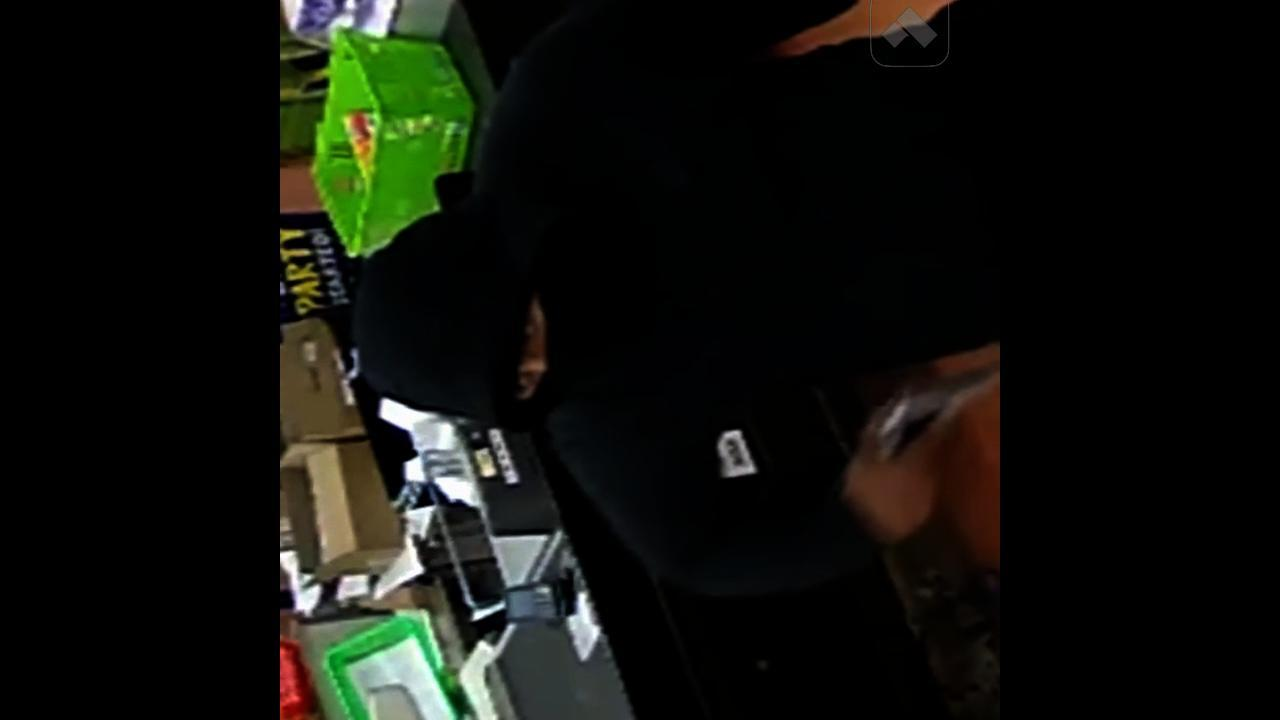gun: (840, 355, 1000, 463)
